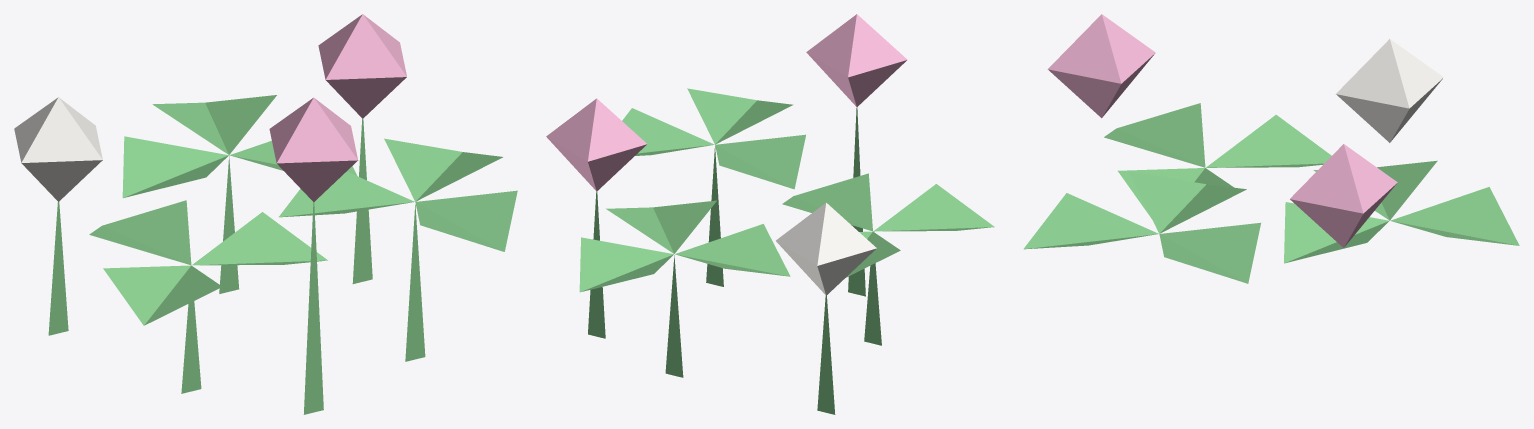
Rendered from clover.glb.
3 views of the same model, side by side, from view 1: azimuth 30°, elevation 25°; view 2: azimuth 150°, elevation 25°; view 3: azimuth 270°, elevation 25° (orthographic). The views are drawn at different scales.
Parts seen in each view (by area): view 1: crop; view 2: crop; view 3: crop.
Part boxes in pixels (left/top/right/bottom): crop: left=14, top=14, right=517, bottom=414; crop: left=546, top=14, right=994, bottom=414; crop: left=1023, top=14, right=1519, bottom=283.
Size of the model in its own units: 0.3839 by 0.3 by 0.4309.
